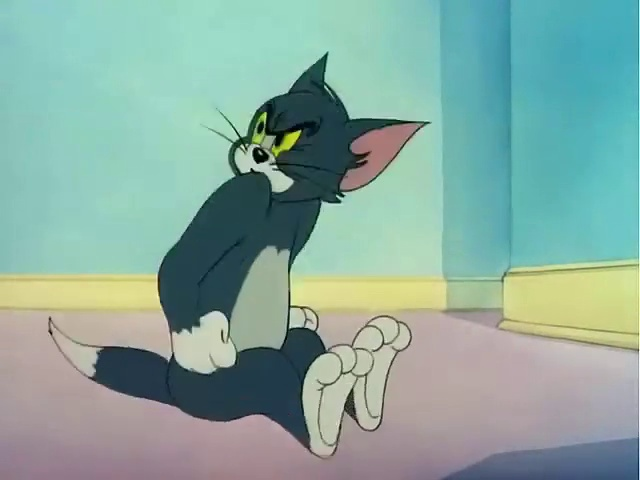tom: (32, 34, 443, 471)
